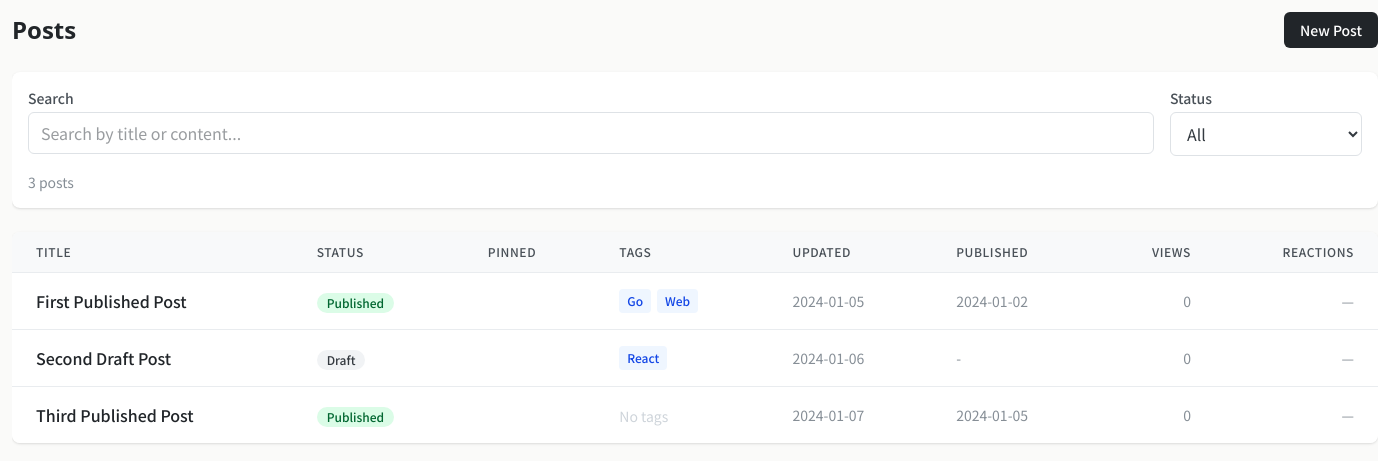
Test: PostList › Search functionality › should show search results count
Expected: the text "3 posts" is shown, [28, 172, 74, 192]
Type "First" into the field labelled "Search".
click(591, 133); type("First")  # box [28, 112, 1154, 154]
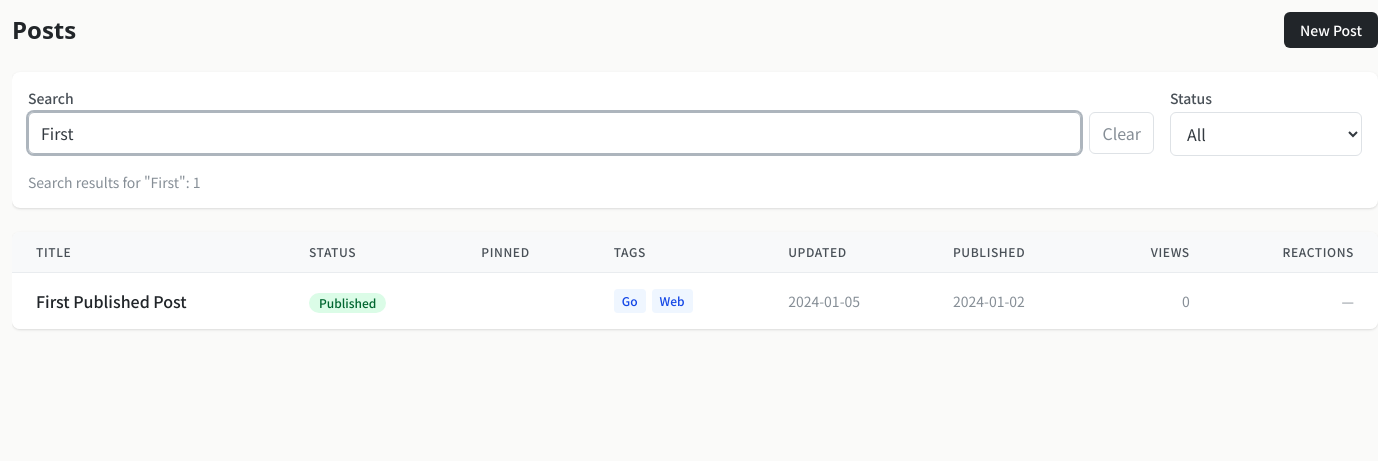
Now the text "Search results for \"First\": 1" is shown, box [28, 172, 200, 192]
